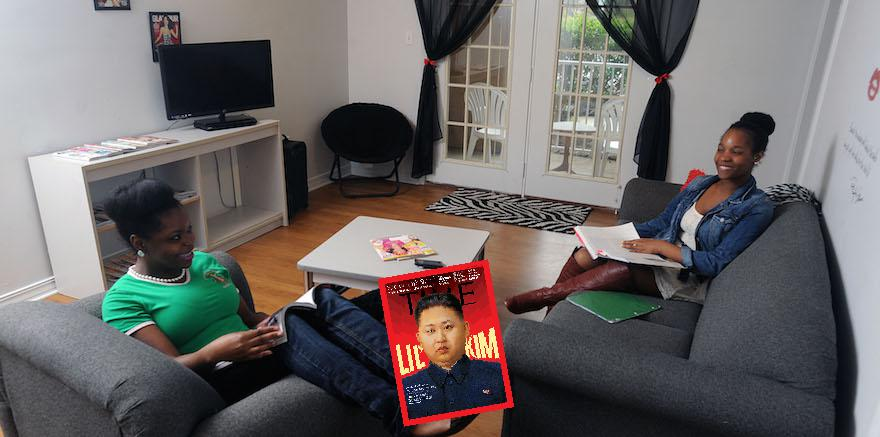times: (375, 257, 515, 428)
